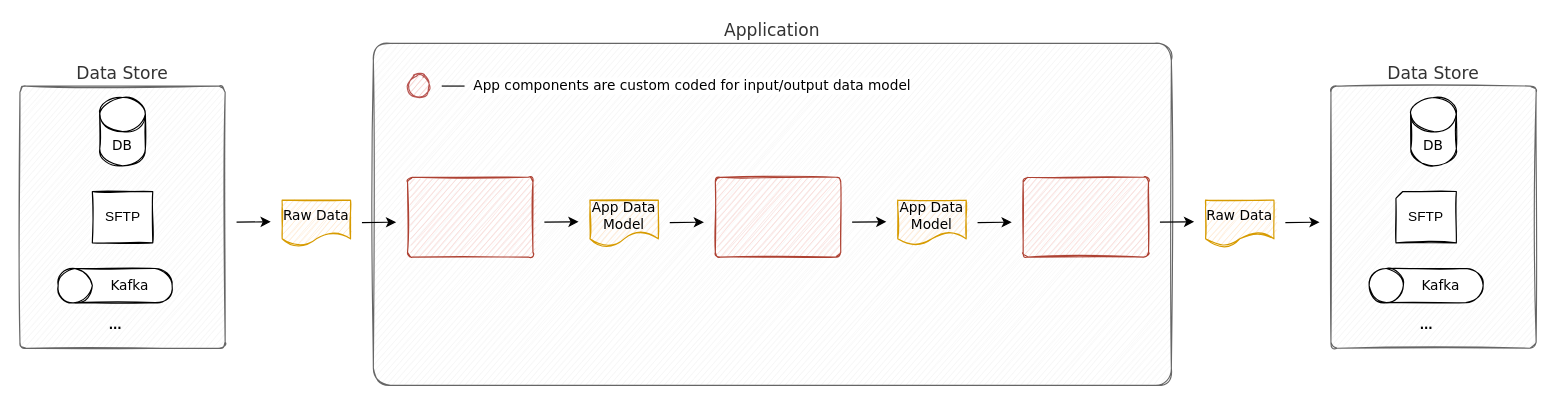
The diagram is 1556 pixels wide and 406 high, and some of its shapes have lost their labels. Here are the shapes that lost their labels. From the top down, the centre of each, then its label:
point (469, 216): To App Data Model
point (777, 216): Transform, Filter, Enrich, ...
point (1085, 216): To Output Format
